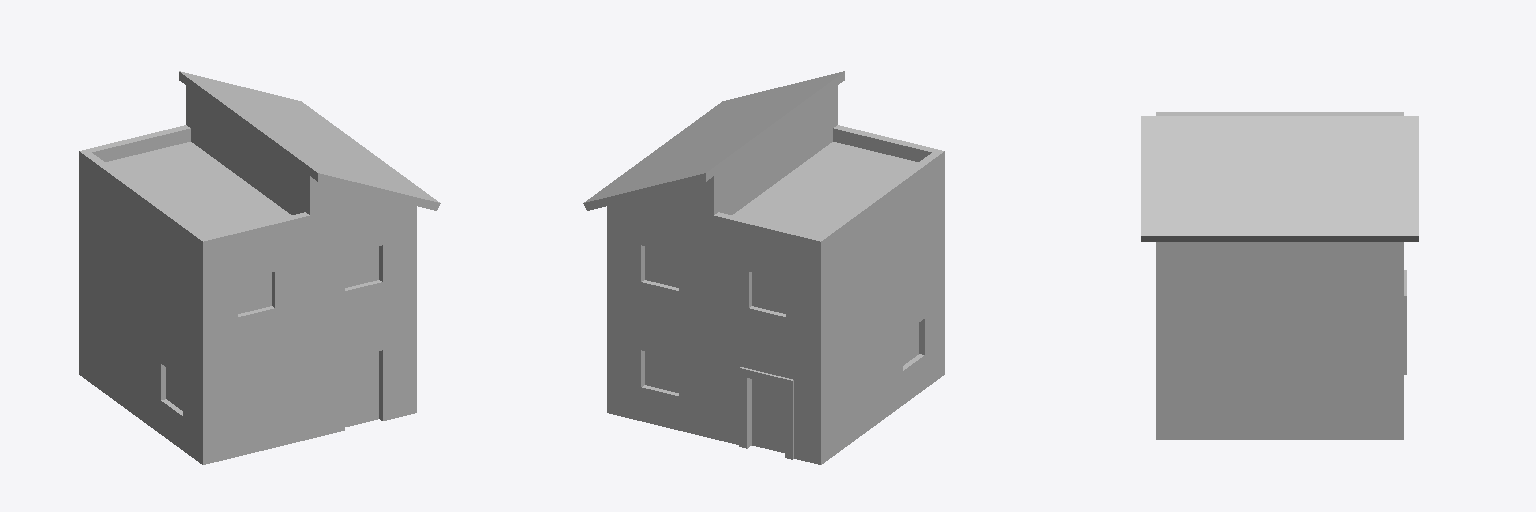
The model's file is city_house_p.obj.
The picture shows the model from 3 angles: view 1: azimuth 30°, elevation 25°; view 2: azimuth 150°, elevation 25°; view 3: azimuth 270°, elevation 25°; orthographic projection.
Parts seen in each view (by area): view 1: mergedBlocks; view 2: mergedBlocks; view 3: mergedBlocks.
Part boxes in pixels (bbox=[...]): mergedBlocks: bbox=[79, 71, 440, 464]; mergedBlocks: bbox=[583, 71, 944, 464]; mergedBlocks: bbox=[1141, 112, 1418, 439].
Size of the model in its own units: 0.5492 by 0.6201 by 0.576.